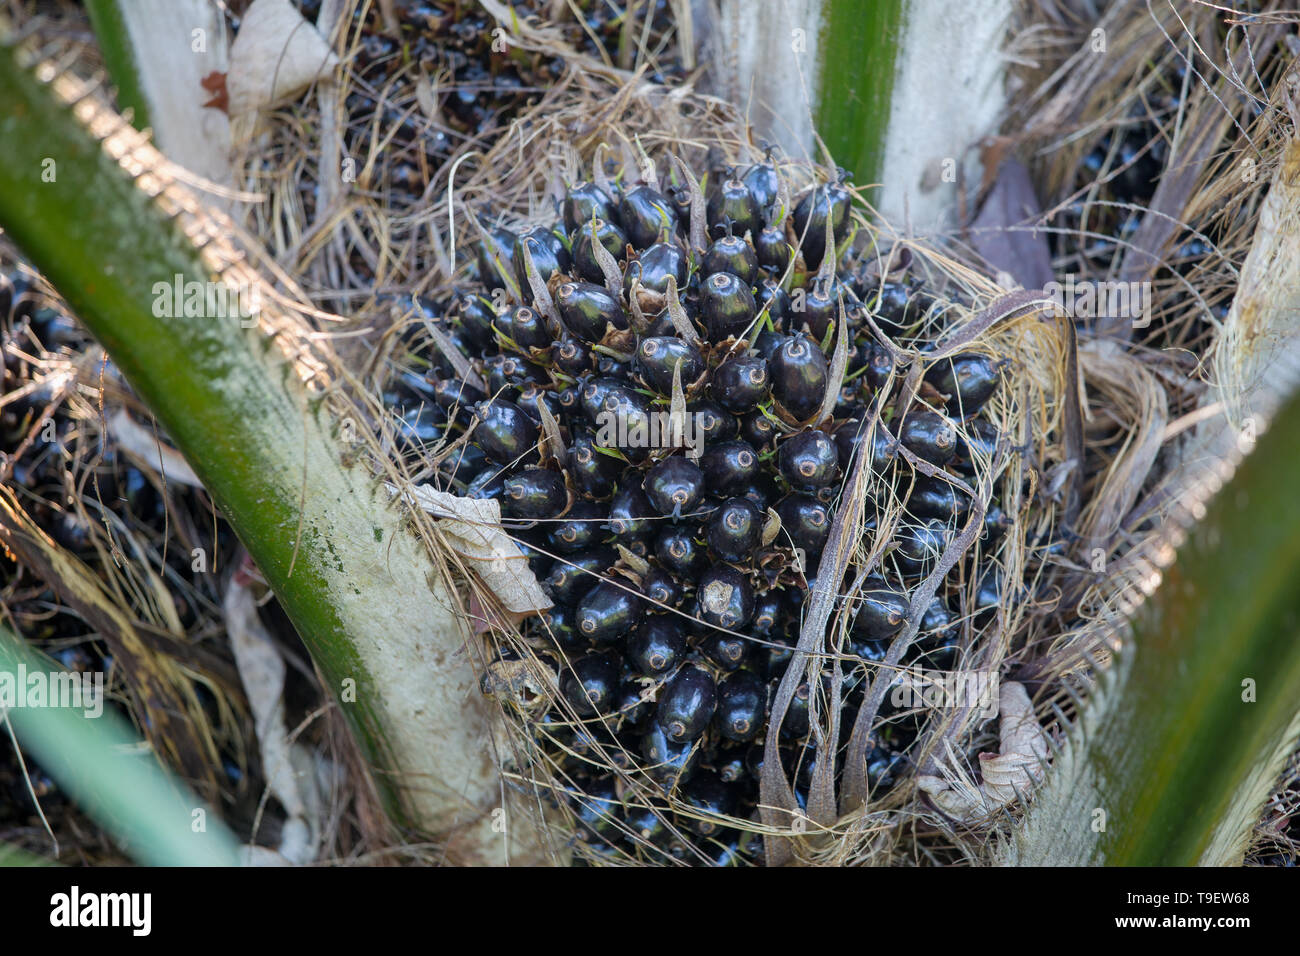PalmUnripe: (388, 184, 1046, 796)
